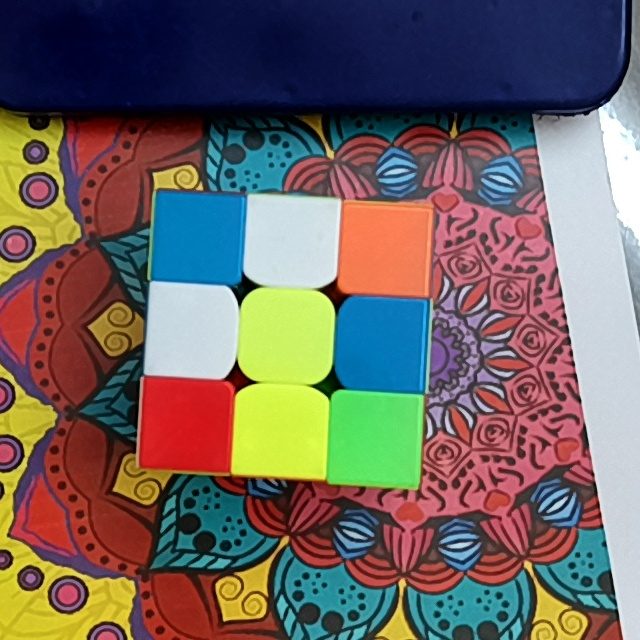tile: (335, 399, 416, 480), (346, 304, 423, 386), (160, 196, 238, 274), (346, 212, 423, 289), (144, 384, 223, 459), (253, 202, 331, 277), (152, 293, 229, 367), (250, 297, 323, 374), (242, 396, 320, 468)
